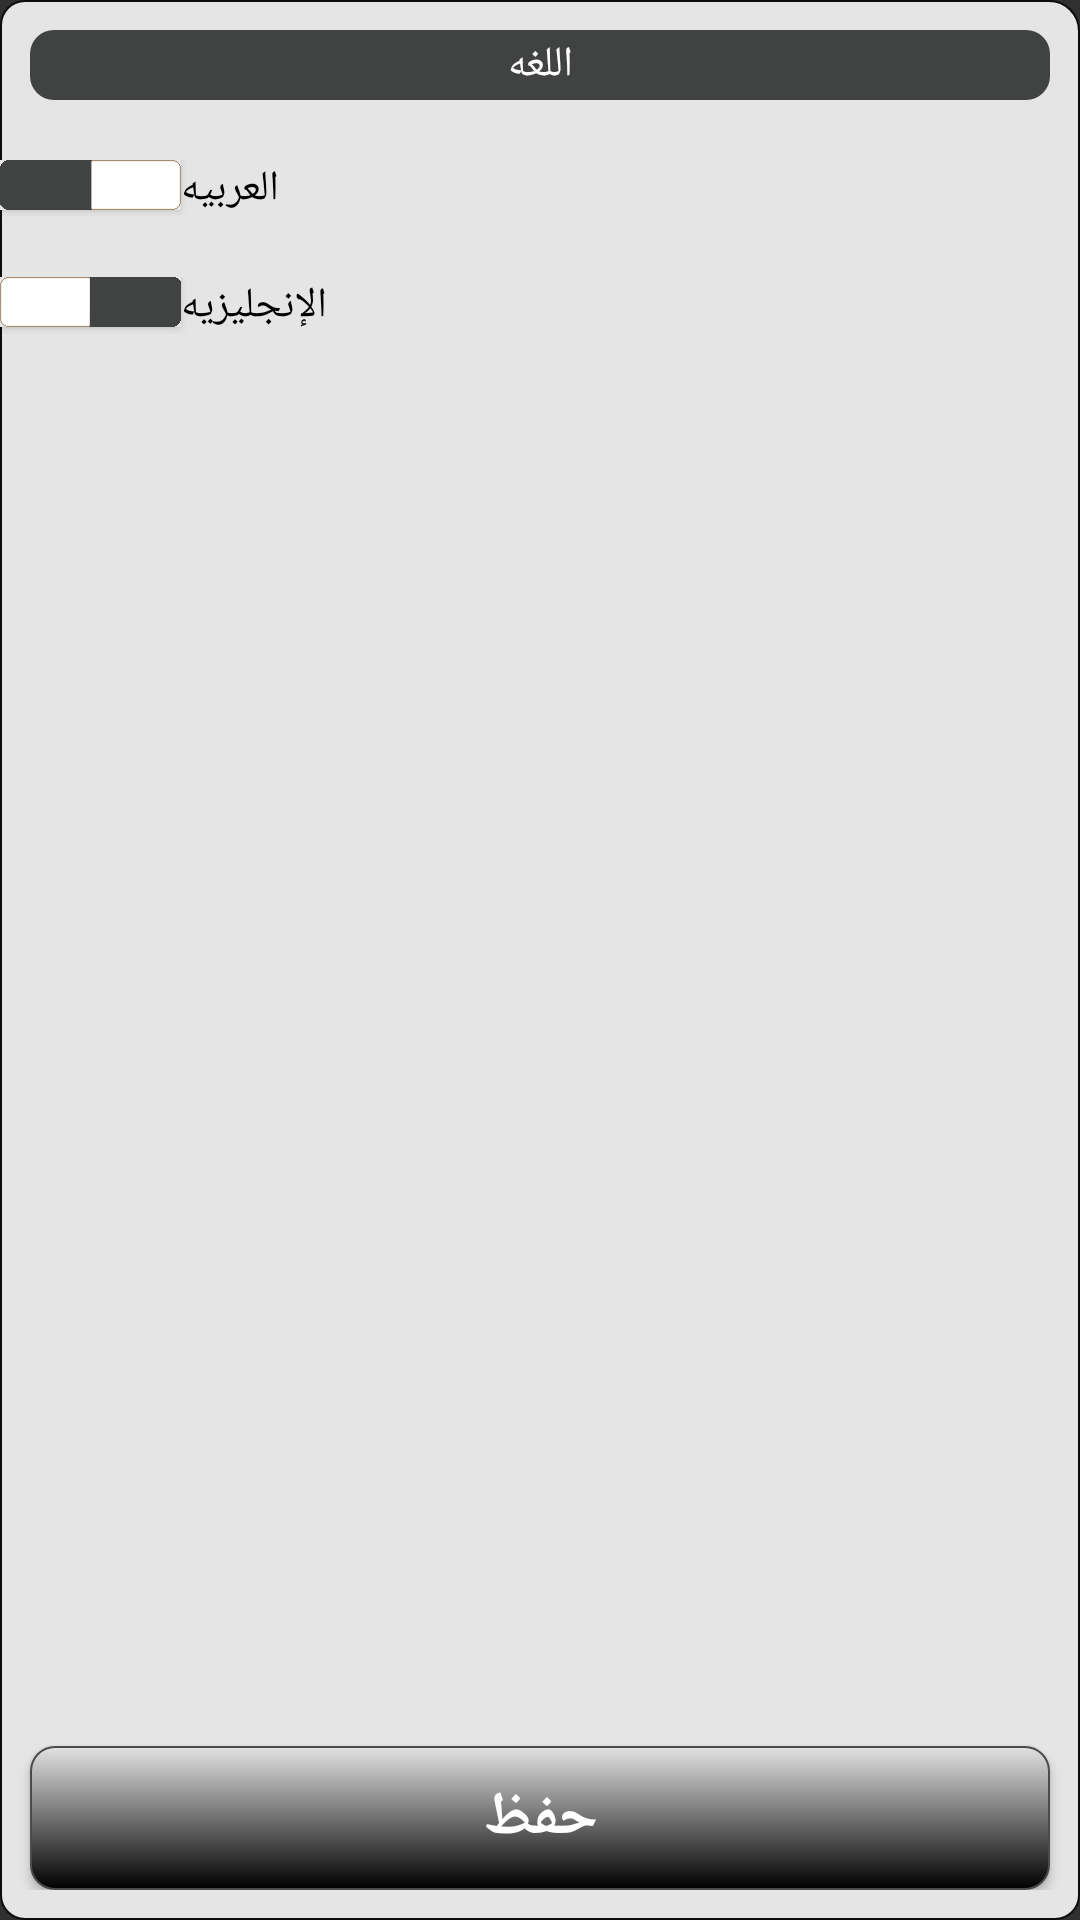

Icon click points for this 1080 x 1920 phone screenshot, format [x,y]:
settings off: [90,302]
settings on: [90,185]
